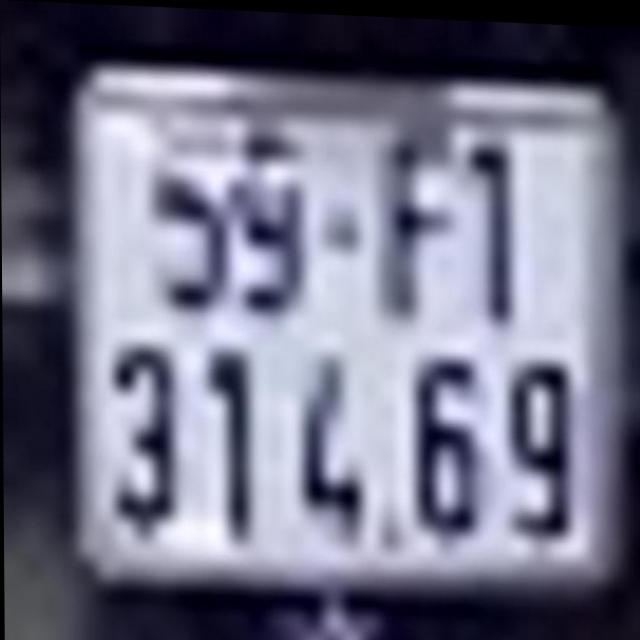1: (203, 337, 260, 542), (470, 137, 520, 322)
3: (107, 332, 182, 545)
4: (292, 340, 370, 550)
5: (153, 126, 224, 312)
6: (412, 340, 481, 541)
9: (230, 129, 304, 325), (504, 347, 576, 542)
F: (375, 129, 464, 319)
